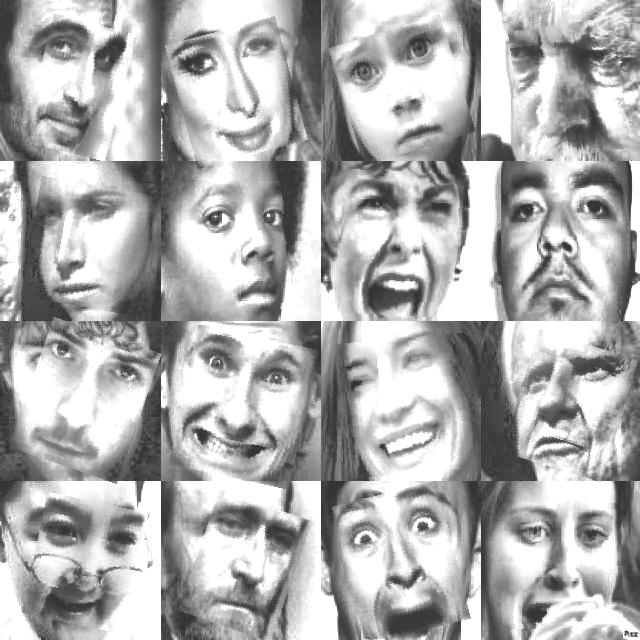angry: (336, 170, 476, 318)
fear: (340, 487, 464, 639), (336, 21, 468, 158), (504, 503, 622, 629)
happy: (175, 329, 312, 484), (338, 336, 473, 476), (173, 23, 301, 163), (28, 497, 152, 631), (30, 18, 130, 157)
neutral: (18, 325, 152, 477), (510, 336, 630, 476), (187, 496, 303, 636), (513, 21, 627, 159), (182, 181, 294, 309), (508, 188, 616, 312)
sad: (26, 181, 152, 311)
